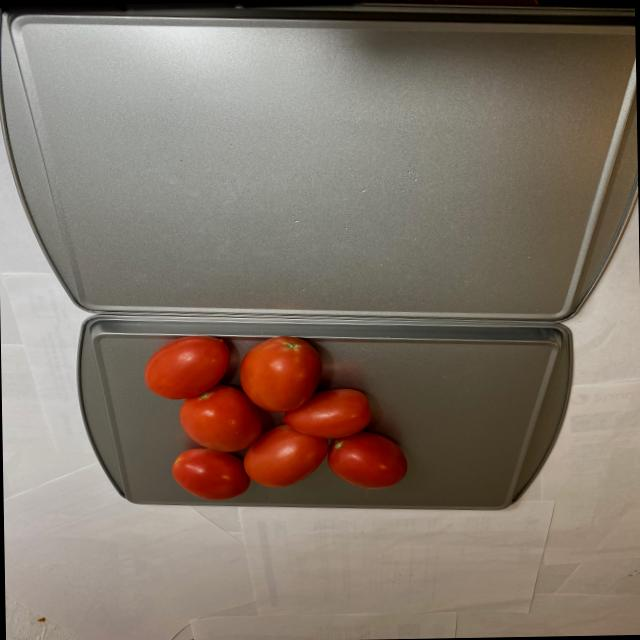tomato: (138, 329, 406, 501)
